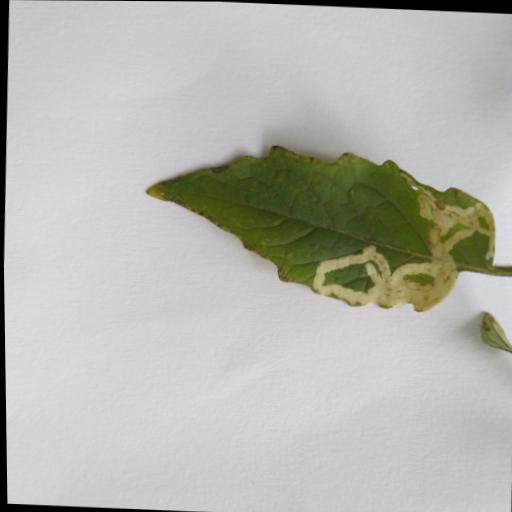Leaf_Miner: (136, 135, 498, 319)
